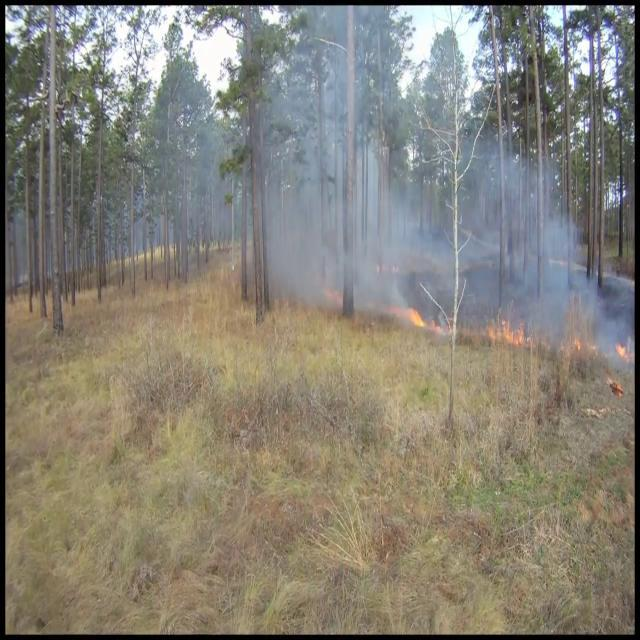Fire: (488, 308, 528, 349), (404, 300, 428, 330), (614, 334, 631, 364)
Smoke: (258, 11, 424, 331), (474, 127, 608, 366)
